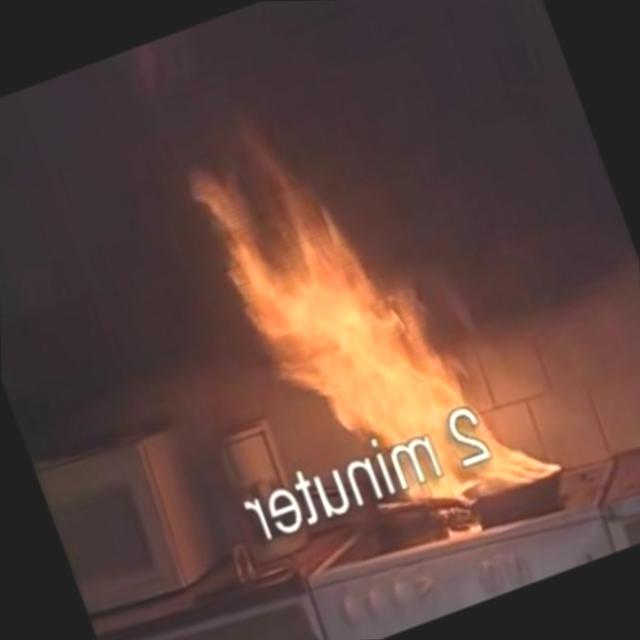fire: (195, 84, 588, 590)
